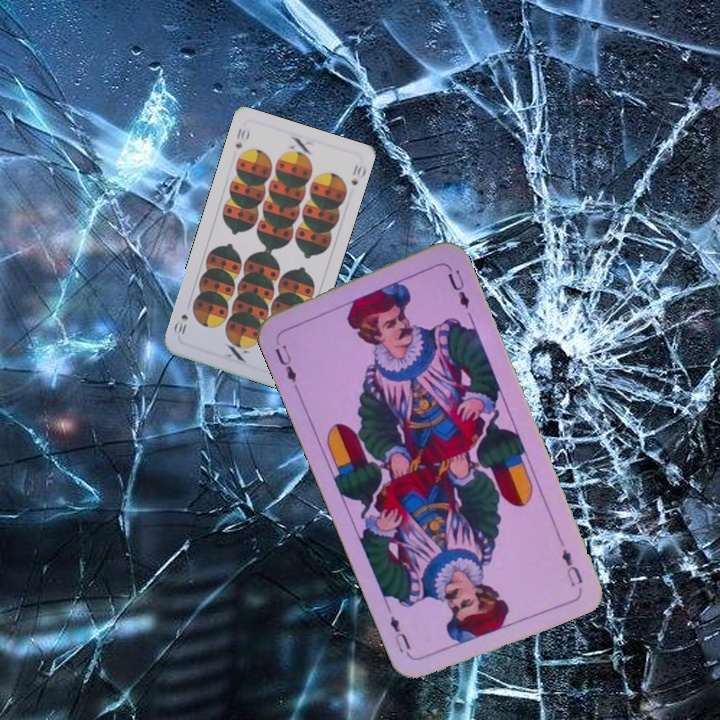EU: (271, 335, 299, 385), (557, 544, 586, 590)
S10: (231, 124, 252, 152)
